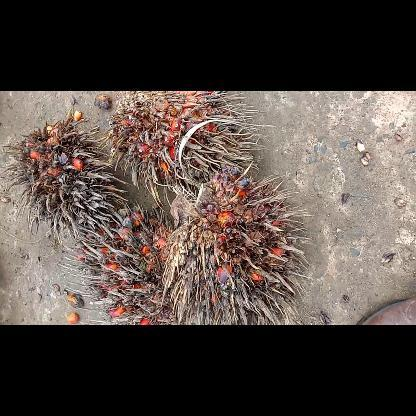Terlalu masak: (158, 164, 316, 324), (93, 91, 275, 216), (0, 115, 137, 254), (58, 204, 193, 324)
